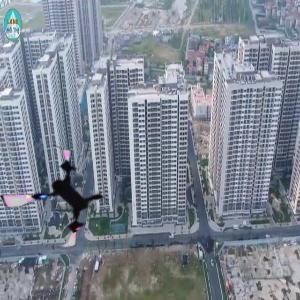drone: (2, 144, 112, 254)
